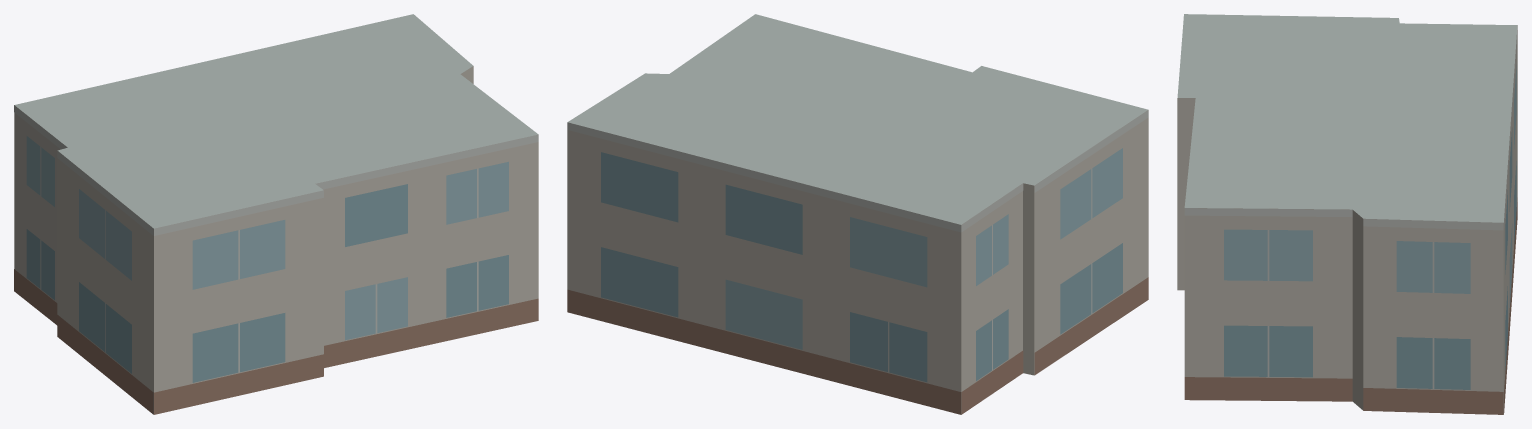
The model's file is survey-upis-32925290.glb.
The picture shows the model from 3 angles, left to right: view 1: azimuth 30°, elevation 25°; view 2: azimuth 150°, elevation 25°; view 3: azimuth 270°, elevation 25°; orthographic projection. The views are drawn at different scales.
Parts seen in each view (by area): view 1: survey-upis-32925290.tmp; view 2: survey-upis-32925290.tmp; view 3: survey-upis-32925290.tmp.
Part boxes in pixels (box(x1,y1,x2,y2)): survey-upis-32925290.tmp: box(14, 14, 538, 414); survey-upis-32925290.tmp: box(567, 14, 1148, 414); survey-upis-32925290.tmp: box(1177, 14, 1517, 414).
Size of the model in its own units: 14.23 by 6.1 by 9.8.
